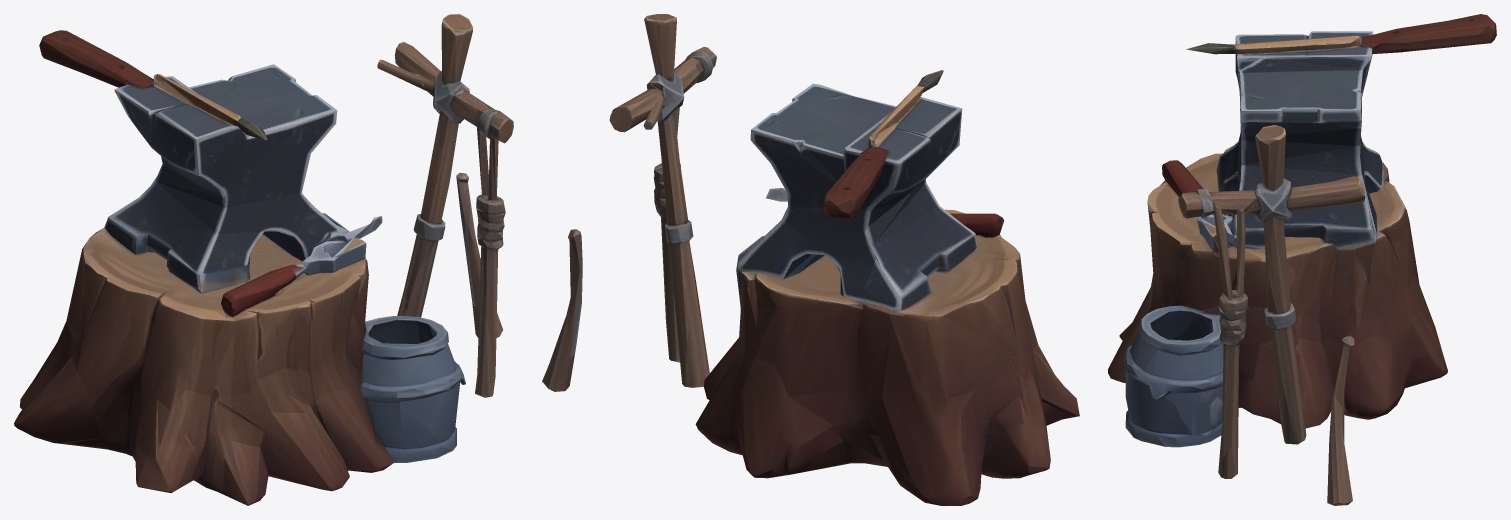
Rendered from anvil_set.glb.
3 renders of one model, left to right at view 1: azimuth 30°, elevation 25°; view 2: azimuth 150°, elevation 25°; view 3: azimuth 270°, elevation 25°, orthographic. The views are drawn at different scales.
Visible parts, largest first — view 1: anvil_set; view 2: anvil_set; view 3: anvil_set.
Part boxes in pixels (x1=…): anvil_set: x1=14, y1=14, x2=513, y2=505; anvil_set: x1=542, y1=14, x2=1079, y2=505; anvil_set: x1=1108, y1=14, x2=1496, y2=505.
Size of the model in its own units: 2.29 by 1.6 by 1.64.
1 material, 1 textured.
